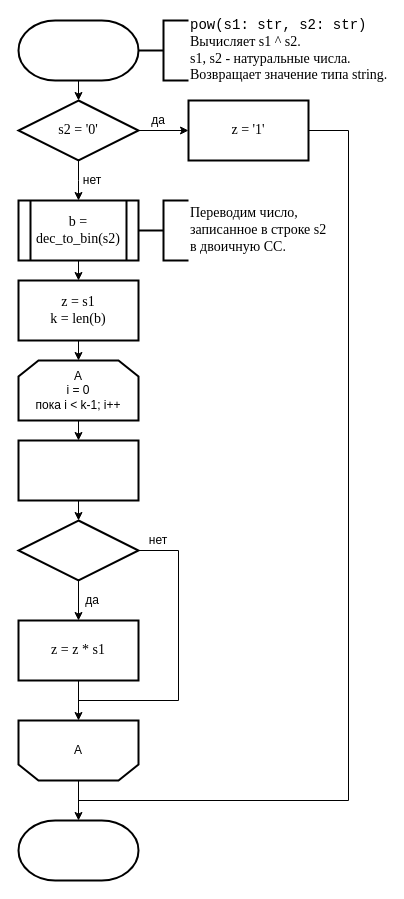
This 404x899 diagram has some shape labels left out. The box of each missing label's shape, as (x1, y1, x2, y2) in pixels:
b[i] = '1': (17, 519, 139, 581)
z = z * z: (17, 439, 139, 501)
Конец: (17, 819, 139, 881)
Начало: (17, 19, 139, 81)
